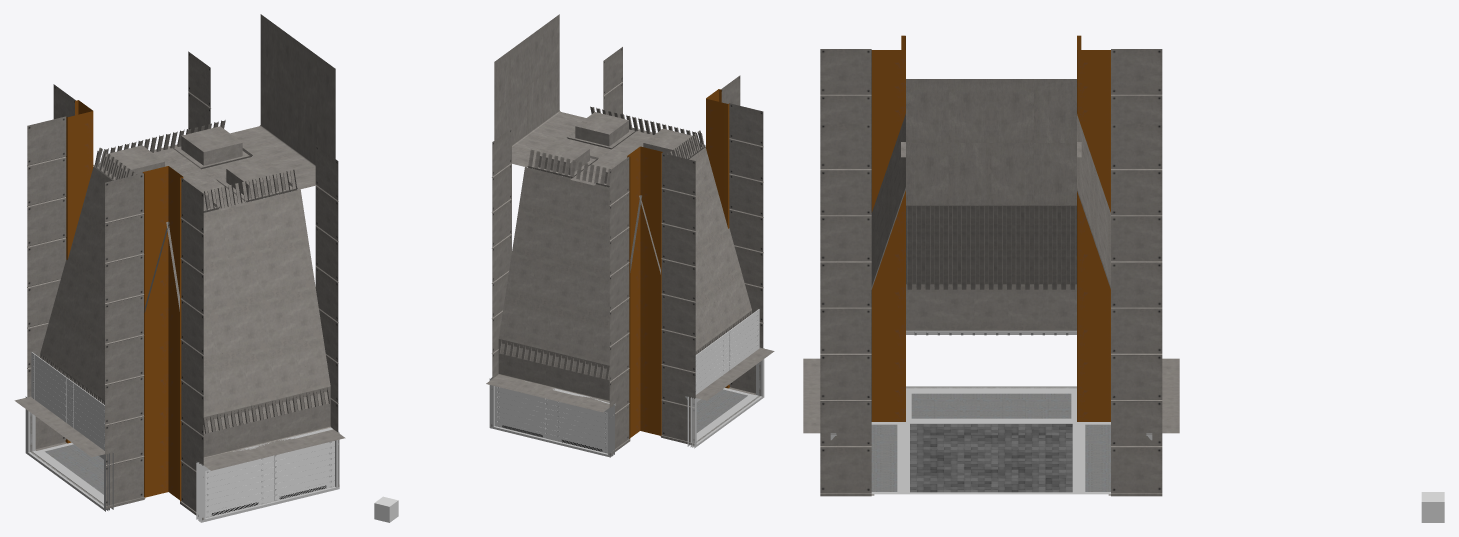
Rendered from Entrance_to_lift.fbx.
3 renders of one model, left to right at view 1: azimuth 30°, elevation 25°; view 2: azimuth 150°, elevation 25°; view 3: azimuth 270°, elevation 25°, orthographic. The views are drawn at different scales.
Visible parts, largest first — view 1: Cube.840, wall_90, wall_90.003, Cube.317, Cube.026, wall_90.011, wall_90.004, lift_gate.002, wall_90.006, lift_gate.001, wall_90.012, Cube.841 (+13 smaller); view 2: Cube.842, wall_90.011, wall_90.012, Cube.317, Cube.026, wall_90, wall_90.013, lift_gate.003, wall_90.014, lift_gate.001, wall_90.003, Cube.843 (+12 smaller); view 3: Cube.026, wall_90.006, wall_90.014, Cube.317, Cube.301, wall_90.003, wall_90.012, Cube.313, Cube.295, Cube.840, wall_90.004, wall_90.013 (+9 smaller).
Boxes of the visible parts, x1=… form: Cube.840: x1=166, y1=189, x2=345, y2=470; wall_90: x1=105, y1=173, x2=145, y2=508; wall_90.003: x1=142, y1=166, x2=183, y2=501; Cube.317: x1=14, y1=167, x2=169, y2=457; Cube.026: x1=230, y1=14, x2=335, y2=189; wall_90.011: x1=27, y1=116, x2=67, y2=452; wall_90.004: x1=180, y1=178, x2=203, y2=520; lift_gate.002: x1=205, y1=441, x2=334, y2=517; wall_90.006: x1=315, y1=145, x2=339, y2=486; lift_gate.001: x1=31, y1=352, x2=104, y2=450; wall_90.012: x1=65, y1=100, x2=93, y2=443; Cube.841: x1=201, y1=169, x2=329, y2=433; Cube.842: x1=486, y1=167, x2=641, y2=412; wall_90.011: x1=660, y1=153, x2=695, y2=445; wall_90.012: x1=627, y1=146, x2=662, y2=438; Cube.317: x1=639, y1=147, x2=774, y2=400; Cube.026: x1=494, y1=14, x2=586, y2=167; wall_90: x1=728, y1=103, x2=763, y2=396; wall_90.013: x1=609, y1=157, x2=630, y2=455; lift_gate.003: x1=495, y1=386, x2=607, y2=453; wall_90.014: x1=491, y1=128, x2=511, y2=426; lift_gate.001: x1=695, y1=309, x2=759, y2=394; wall_90.003: x1=706, y1=89, x2=729, y2=388; Cube.843: x1=499, y1=149, x2=610, y2=380; Cube.026: x1=906, y1=79, x2=1076, y2=205; wall_90.006: x1=820, y1=123, x2=874, y2=496; wall_90.014: x1=1108, y1=123, x2=1162, y2=496; Cube.317: x1=906, y1=206, x2=1076, y2=330; Cube.301: x1=910, y1=424, x2=1072, y2=492; wall_90.003: x1=871, y1=35, x2=905, y2=421; wall_90.012: x1=1077, y1=35, x2=1110, y2=421; Cube.313: x1=907, y1=206, x2=1075, y2=289; Cube.295: x1=911, y1=393, x2=1071, y2=418; Cube.840: x1=803, y1=114, x2=905, y2=433; wall_90.004: x1=820, y1=49, x2=871, y2=123; wall_90.013: x1=1111, y1=49, x2=1162, y2=123.
Size of the model in its own units: 1887 by 2948 by 3751.
